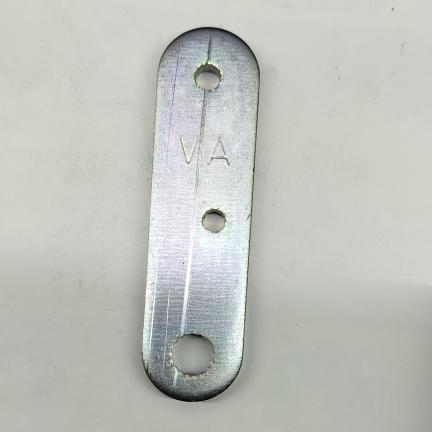line defect: (184, 93, 212, 337)
